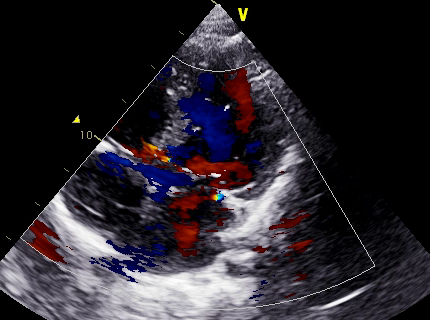MR: (169, 139, 245, 220)
